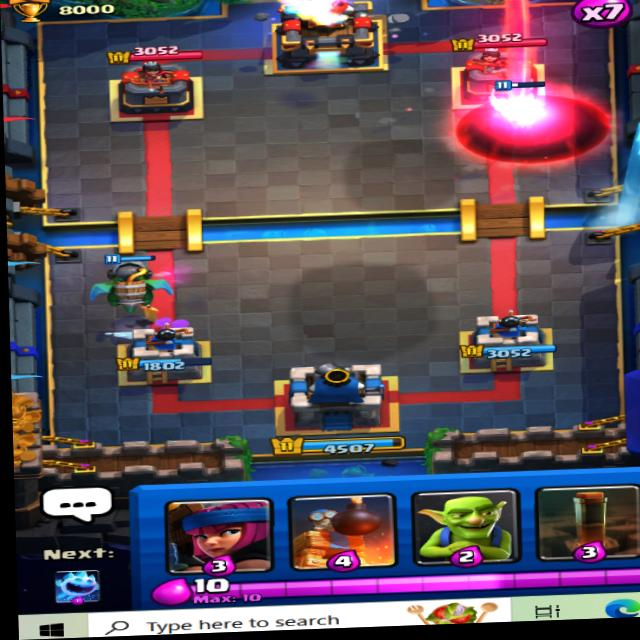void: (462, 95, 611, 165)
